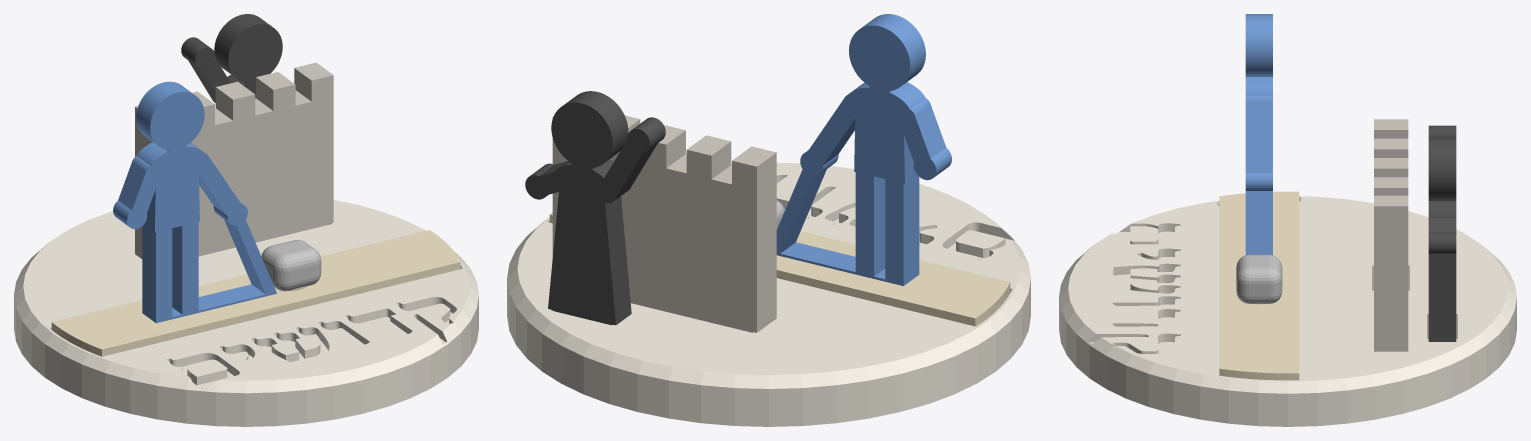
The model's file is kedoshim.glb.
3 views of the same model, side by side, from view 1: azimuth 30°, elevation 25°; view 2: azimuth 150°, elevation 25°; view 3: azimuth 270°, elevation 25° (orthographic). The views are drawn at different scales.
Parts seen in each view (by area): view 1: stage, wall, walker, path, sneak, stumbling-block; view 2: stage, wall, walker, sneak, path; view 3: stage, path, wall, walker, sneak, stumbling-block.
Part boxes in pixels (box(x1,y1,x2,y2)): stage: box(14, 200, 478, 426); wall: box(135, 62, 333, 258); walker: box(113, 81, 276, 323); path: box(51, 230, 460, 356); sneak: box(181, 14, 282, 102); stumbling-block: box(261, 240, 321, 291); stage: box(507, 162, 1030, 426); wall: box(552, 115, 776, 332); walker: box(776, 14, 951, 285); sneak: box(525, 91, 665, 325); path: box(549, 212, 1010, 326); stage: box(1059, 196, 1516, 426); path: box(1219, 191, 1299, 380); wall: box(1374, 119, 1408, 351); walker: box(1245, 14, 1272, 255); sneak: box(1428, 125, 1456, 341); stumbling-block: box(1236, 254, 1282, 303).
Bounding box in the file's own units: 40 × 26 × 40.
